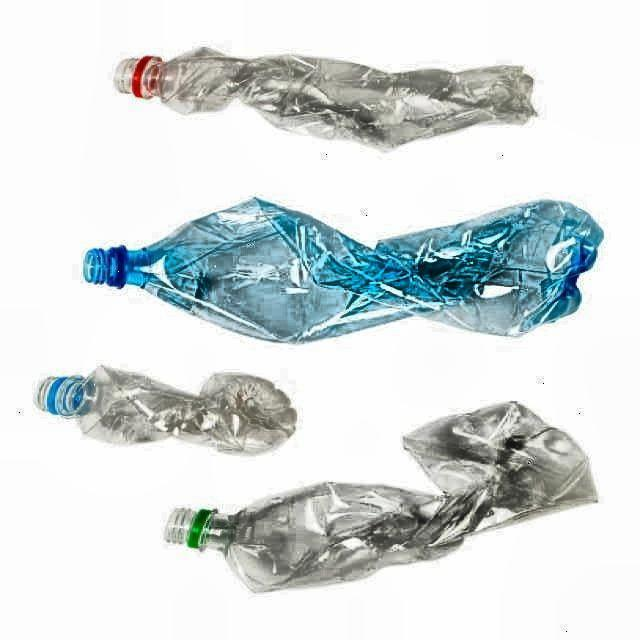plastic: (165, 404, 596, 592), (85, 199, 602, 341), (115, 48, 535, 149), (36, 366, 296, 453)
